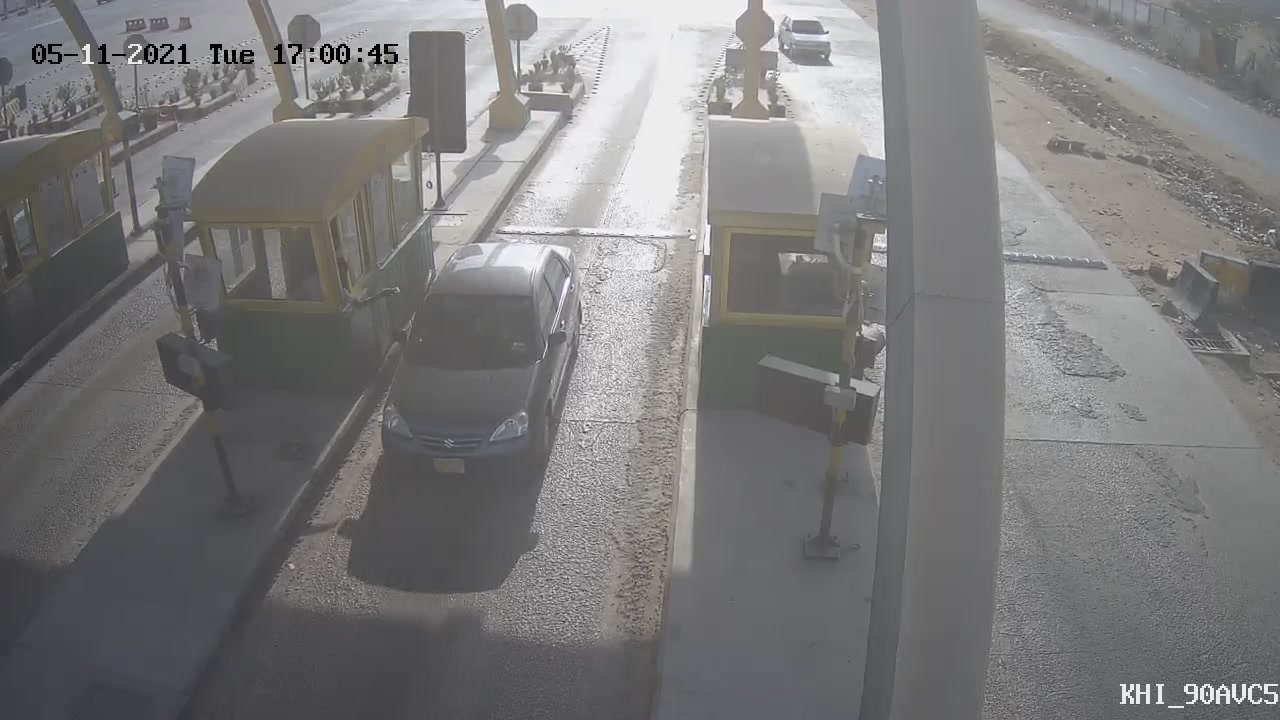F1: (356, 218, 604, 508)
